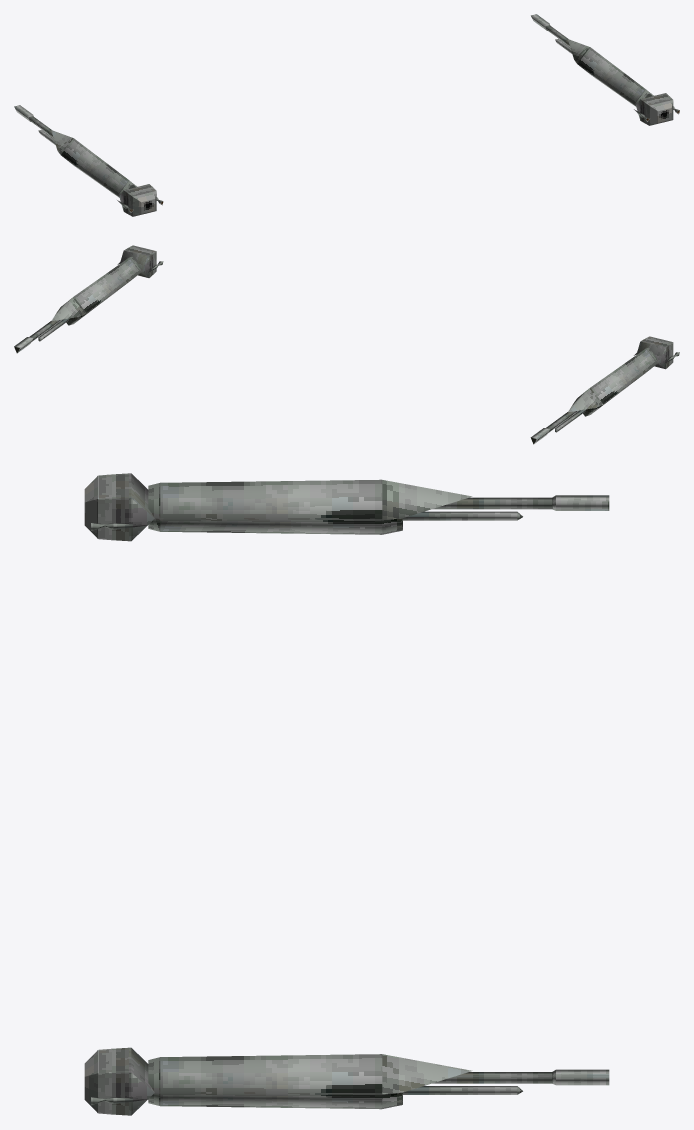
Rendered from xwing_weapon1_pos_s03_l2.fbx.
3 renders of one model, top to bottom at view 1: azimuth 30°, elevation 25°; view 2: azimuth 150°, elevation 25°; view 3: azimuth 270°, elevation 25°, orthographic. The views are drawn at different scales.
Parts seen in each view (by area): view 1: mesh_node; view 2: mesh_node; view 3: mesh_node.
Part boxes in pixels (x1,y1,x2,y2): mesh_node: (14, 14, 679, 216); mesh_node: (14, 245, 679, 444); mesh_node: (84, 473, 609, 1115).
Size of the model in its own units: 13.81 by 1.5 by 5.7.
